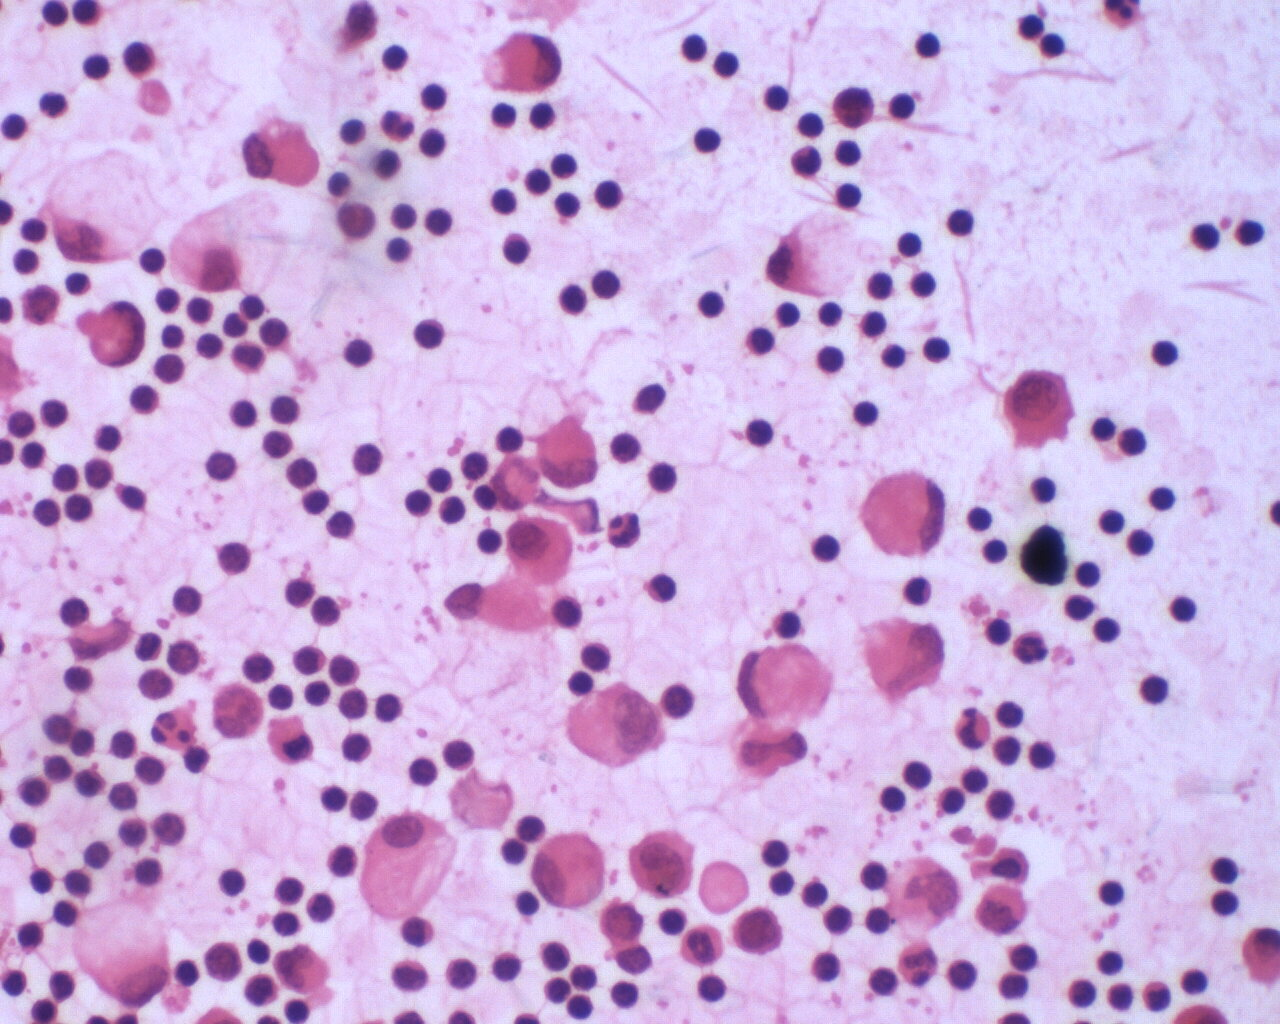ab: (999, 363, 1077, 458), (626, 828, 701, 901), (730, 908, 789, 962)
histo: (359, 809, 461, 920), (74, 900, 173, 1009), (736, 639, 840, 731), (856, 463, 946, 558)
lymph: (345, 437, 389, 485), (201, 440, 245, 487), (695, 283, 741, 325), (670, 28, 714, 70), (738, 412, 779, 456), (438, 731, 479, 775), (340, 332, 378, 378), (553, 279, 595, 320), (1091, 876, 1133, 916), (908, 27, 949, 69), (942, 204, 984, 245), (170, 579, 211, 620), (235, 648, 276, 689), (1135, 671, 1173, 712), (759, 77, 799, 116), (808, 529, 846, 569), (1208, 852, 1248, 890), (1090, 941, 1128, 981), (56, 591, 97, 629), (367, 686, 409, 723), (590, 171, 627, 212), (916, 329, 953, 370), (1149, 333, 1185, 375), (499, 231, 537, 269), (213, 861, 249, 901), (1127, 528, 1163, 565), (759, 837, 795, 871), (80, 47, 116, 82), (1186, 222, 1221, 256), (876, 783, 909, 819), (850, 396, 884, 430), (229, 399, 261, 435), (984, 786, 1017, 819)
meso: (528, 827, 610, 916), (507, 515, 580, 585)
neutro: (894, 934, 939, 993), (678, 925, 728, 973), (951, 702, 995, 753), (377, 103, 426, 147), (606, 502, 648, 553), (1010, 627, 1053, 675), (1139, 978, 1179, 1017)
